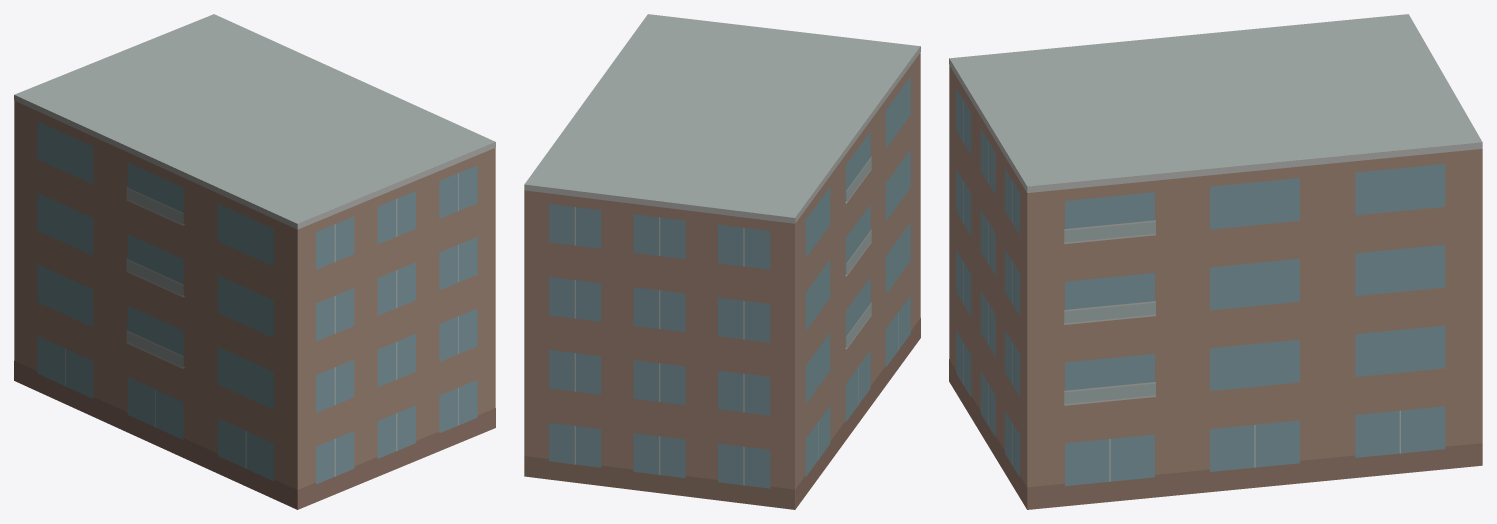
The model's file is survey-upis-32716375.glb.
3 views of the same model, side by side, from view 1: azimuth 30°, elevation 25°; view 2: azimuth 150°, elevation 25°; view 3: azimuth 270°, elevation 25° (orthographic). The views are drawn at different scales.
Parts seen in each view (by area): view 1: survey-upis-32716375.tmp; view 2: survey-upis-32716375.tmp; view 3: survey-upis-32716375.tmp.
Boxes of the visible parts, x1,y1,x2,y2 form: survey-upis-32716375.tmp: (14,14,495,509); survey-upis-32716375.tmp: (524,14,920,509); survey-upis-32716375.tmp: (949,14,1482,509).
Bounding box in the file's own units: 13.98 × 12.2 × 18.26.
